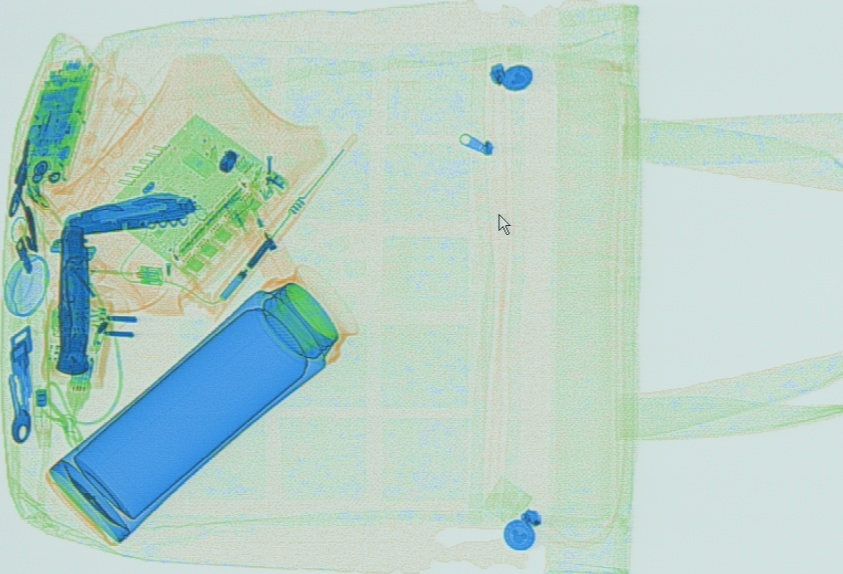knife: (47, 222, 95, 377), (59, 190, 197, 240)
lighter: (219, 185, 301, 298)
